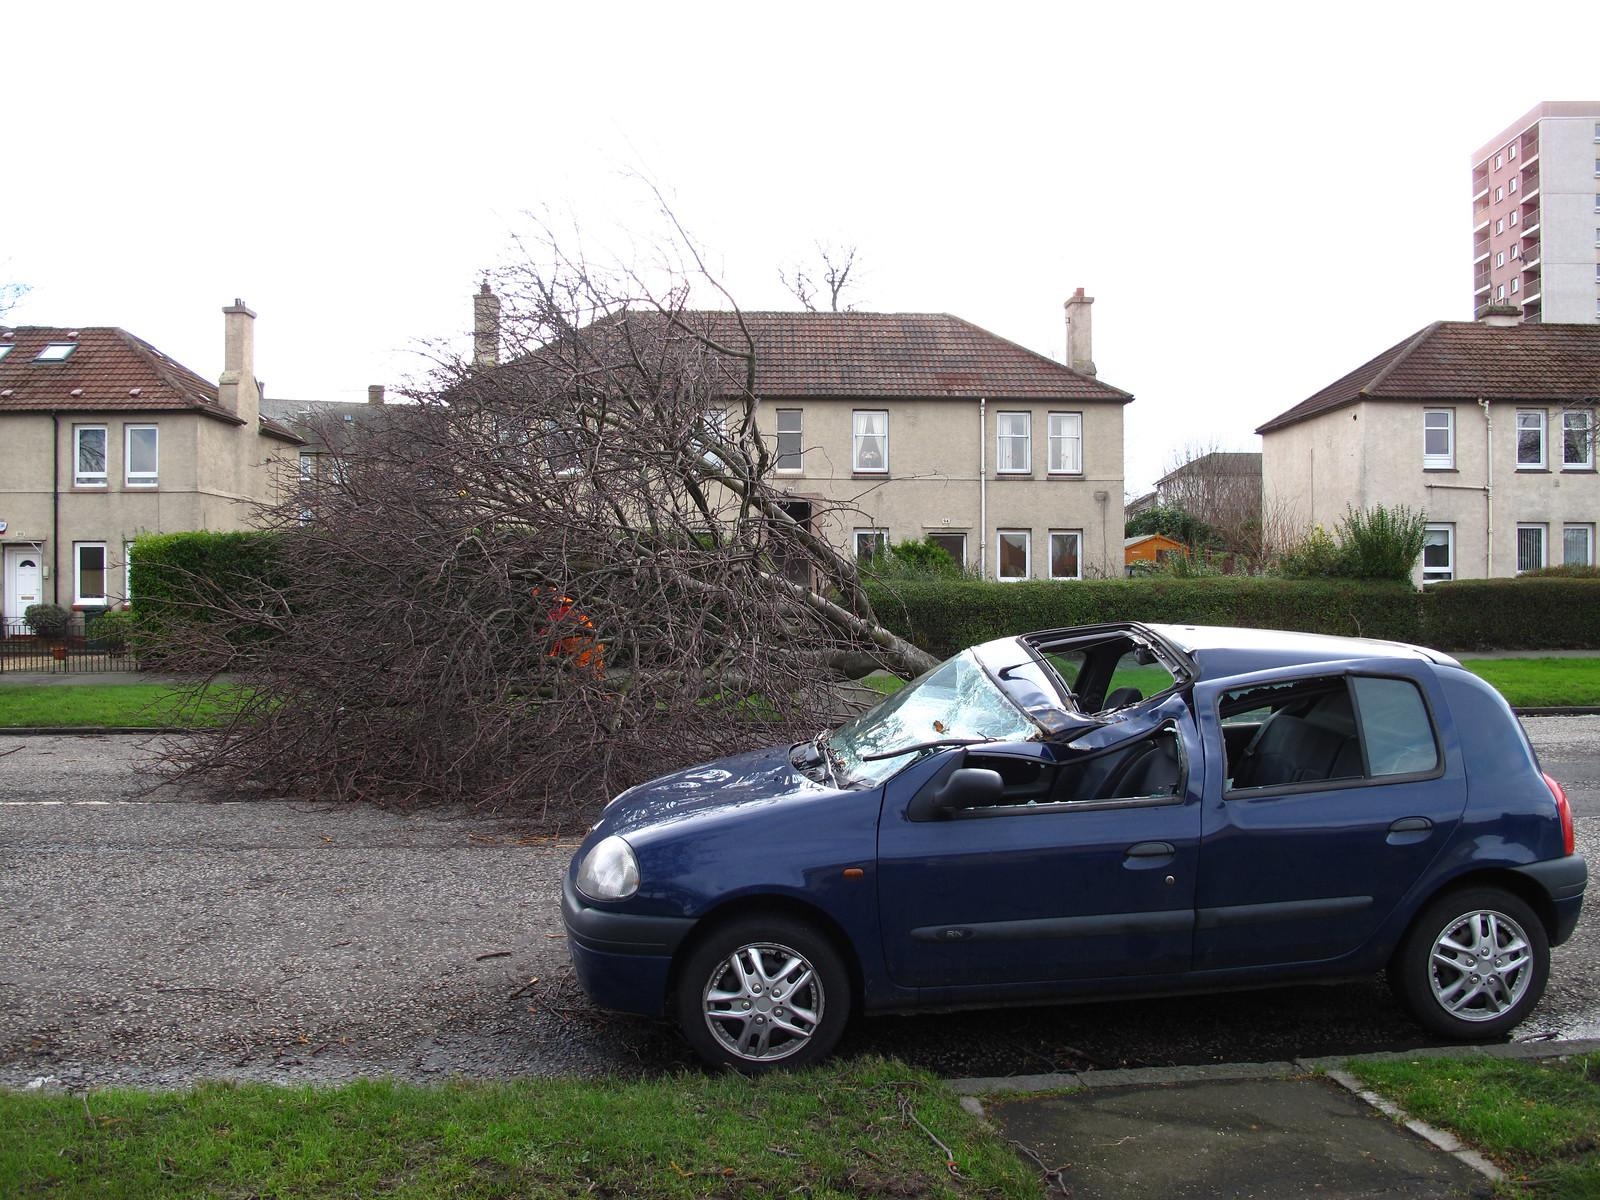Front-Windscreen-Damage: (797, 661, 1027, 770)
roof-dent: (978, 613, 1383, 718)
